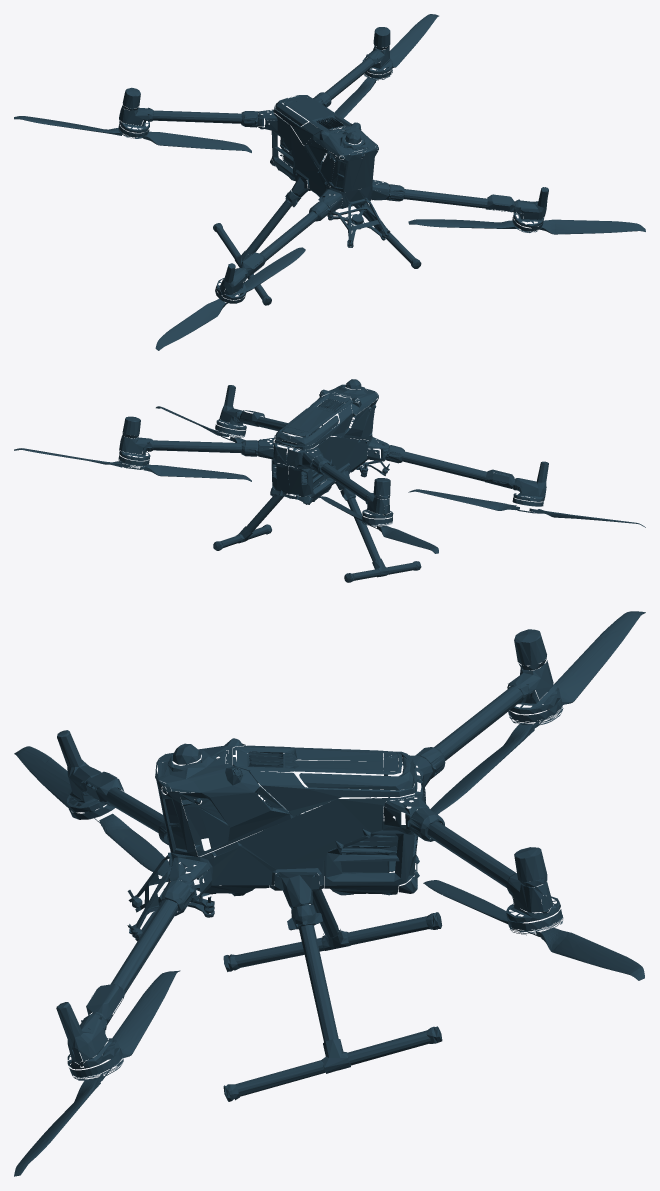
The model's file is m400-flight.glb.
3 views of the same model, one above another, from view 1: azimuth 30°, elevation 25°; view 2: azimuth 150°, elevation 25°; view 3: azimuth 270°, elevation 25° (orthographic). The views are drawn at different scales.
Parts seen in each view (by area): view 1: body, rotor-front-right, rotor-front-left, rotor-rear-left, rotor-rear-right; view 2: body, rotor-rear-right, rotor-front-left, rotor-rear-left, rotor-front-right; view 3: body, rotor-rear-left, rotor-front-right, rotor-rear-right, rotor-front-left.
Boxes of the visible parts, box(x1,y1,x2,y2) form: body: box(118, 27, 548, 305); rotor-front-right: box(408, 219, 645, 234); rotor-front-left: box(155, 247, 305, 350); rotor-rear-left: box(14, 116, 251, 152); rotor-rear-right: box(335, 14, 438, 120); body: box(118, 379, 548, 582); rotor-rear-right: box(14, 448, 251, 481); rotor-front-left: box(408, 489, 645, 527); rotor-rear-left: box(319, 496, 438, 553); rotor-front-right: box(156, 406, 286, 459); body: box(56, 629, 563, 1101); rotor-rear-left: box(430, 611, 645, 814); rotor-front-right: box(14, 970, 180, 1176); rotor-rear-right: box(423, 880, 644, 980); rotor-front-left: box(14, 746, 169, 876).
Bounding box in the file's own units: 1494 × 483 × 938.
